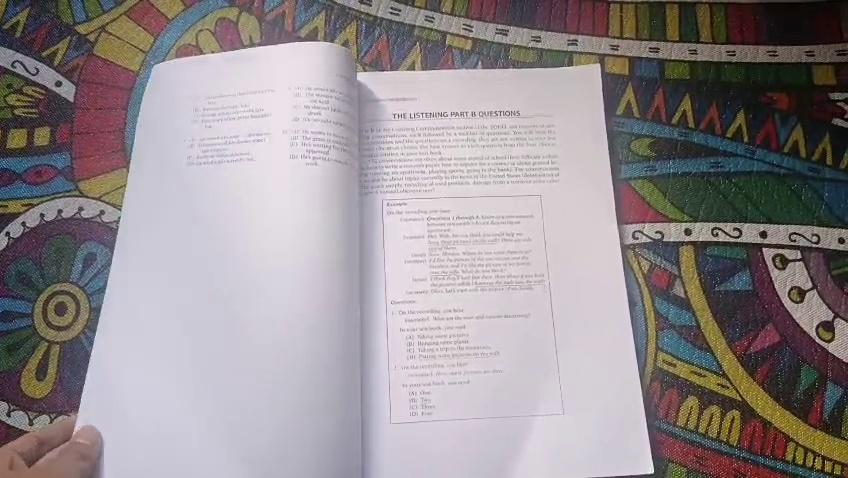Kertas: (162, 71, 599, 478)
